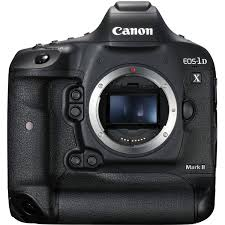camera: (9, 10, 215, 218)
